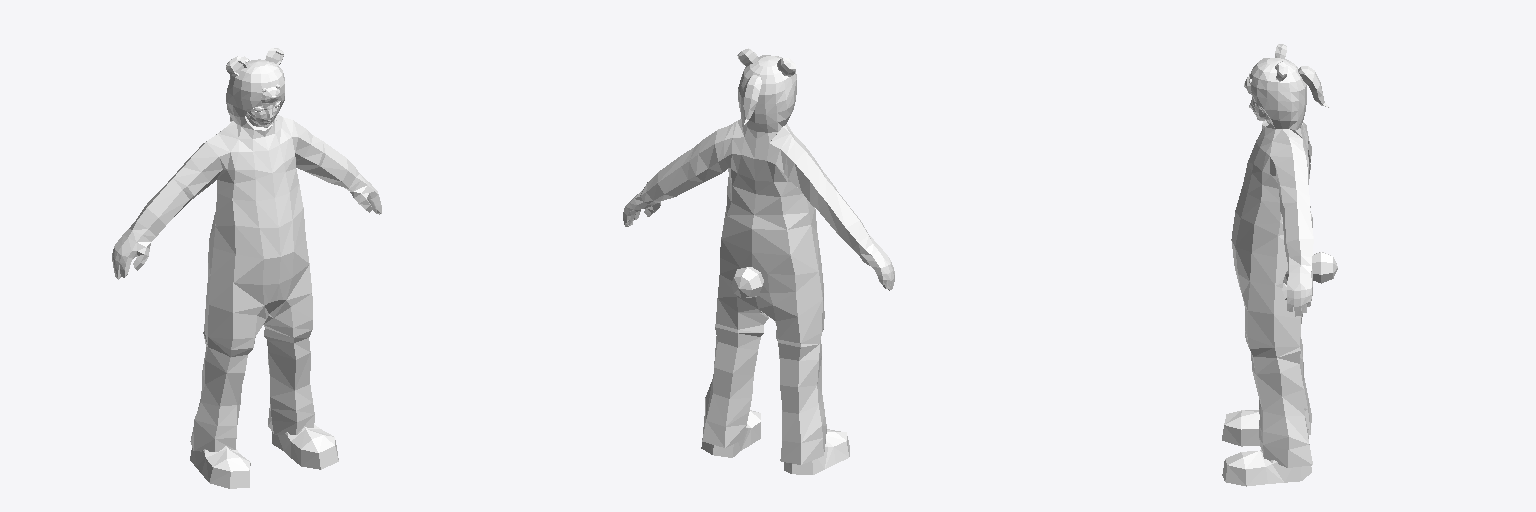
Rendered from Masaru_Costume08.obj.
3 renders of one model, left to right at view 1: azimuth 30°, elevation 25°; view 2: azimuth 150°, elevation 25°; view 3: azimuth 270°, elevation 25°, orthographic.
Parts seen in each view (by area): view 1: RefRep_20_1; view 2: RefRep_20_1; view 3: RefRep_20_1.
Part boxes in pixels (x1,y1,x2,y2): RefRep_20_1: (112, 48, 381, 488); RefRep_20_1: (623, 48, 894, 474); RefRep_20_1: (1222, 44, 1337, 486).
Size of the model in its own units: 17.86 by 26.1 by 6.8.